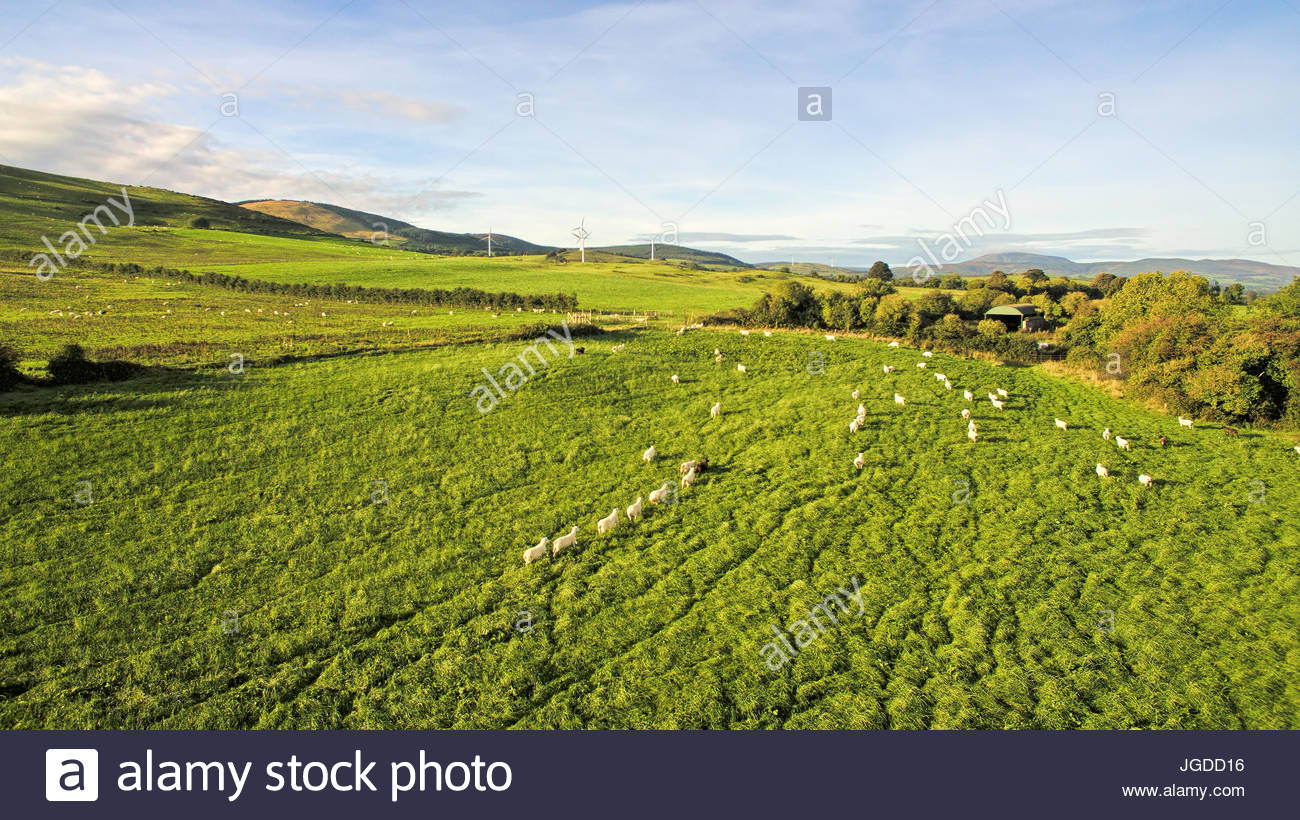sheep: (553, 525, 581, 560), (522, 536, 551, 565), (598, 506, 621, 539), (649, 483, 669, 507), (627, 495, 644, 523), (681, 467, 695, 489), (1094, 462, 1110, 477), (643, 445, 657, 462), (1178, 415, 1195, 429), (854, 452, 866, 471), (1138, 473, 1153, 488), (1114, 436, 1129, 451), (856, 401, 868, 419), (681, 460, 697, 473), (1054, 417, 1067, 431), (894, 392, 906, 407), (710, 402, 721, 418), (1101, 427, 1113, 441), (991, 398, 1004, 410), (849, 418, 859, 433), (962, 389, 974, 401), (997, 388, 1008, 400), (934, 372, 947, 382), (967, 430, 976, 443), (921, 350, 934, 358), (968, 421, 976, 433), (961, 409, 970, 419), (988, 392, 998, 400), (884, 364, 894, 372), (738, 363, 746, 372), (888, 341, 900, 347), (916, 362, 926, 369), (739, 329, 749, 335), (672, 374, 678, 383), (764, 330, 770, 338)
